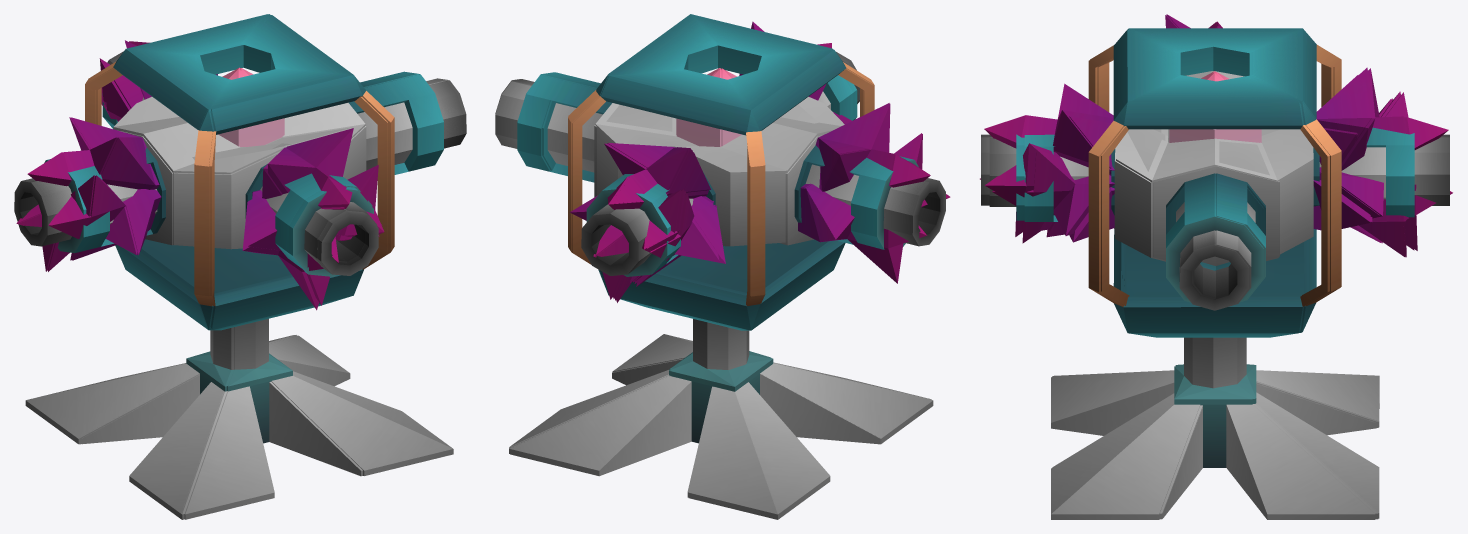
File: Asset_LaserCañon.fbx
3 renders of one model, left to right at view 1: azimuth 30°, elevation 25°; view 2: azimuth 150°, elevation 25°; view 3: azimuth 270°, elevation 25°, orthographic. The views are drawn at different scales.
Visible parts, largest first — view 1: Cuerpo_Cañon (×4), cuerpo_cañon, Cristales (×3); view 2: Cuerpo_Cañon (×4), Cristales (×3), cuerpo_cañon; view 3: Cuerpo_Cañon (×4), cuerpo_cañon, Cristales (×3), Cristal.
Boxes of the visible parts, x1=… form: Cuerpo_Cañon (×4): x1=14, y1=14, x2=466, y2=519; cuerpo_cañon: x1=77, y1=15, x2=387, y2=519; Cristales (×3): x1=16, y1=40, x2=384, y2=310; Cuerpo_Cañon (×4): x1=495, y1=14, x2=945, y2=519; Cristales (×3): x1=570, y1=21, x2=950, y2=302; cuerpo_cañon: x1=581, y1=19, x2=933, y2=481; Cuerpo_Cañon (×4): x1=989, y1=28, x2=1379, y2=519; cuerpo_cañon: x1=981, y1=28, x2=1449, y2=467; Cristales (×3): x1=980, y1=14, x2=1452, y2=257; Cristal: x1=1313, y1=75, x2=1408, y2=257.
Bounding box in the file's own units: 50.44 × 41.75 × 46.53.
